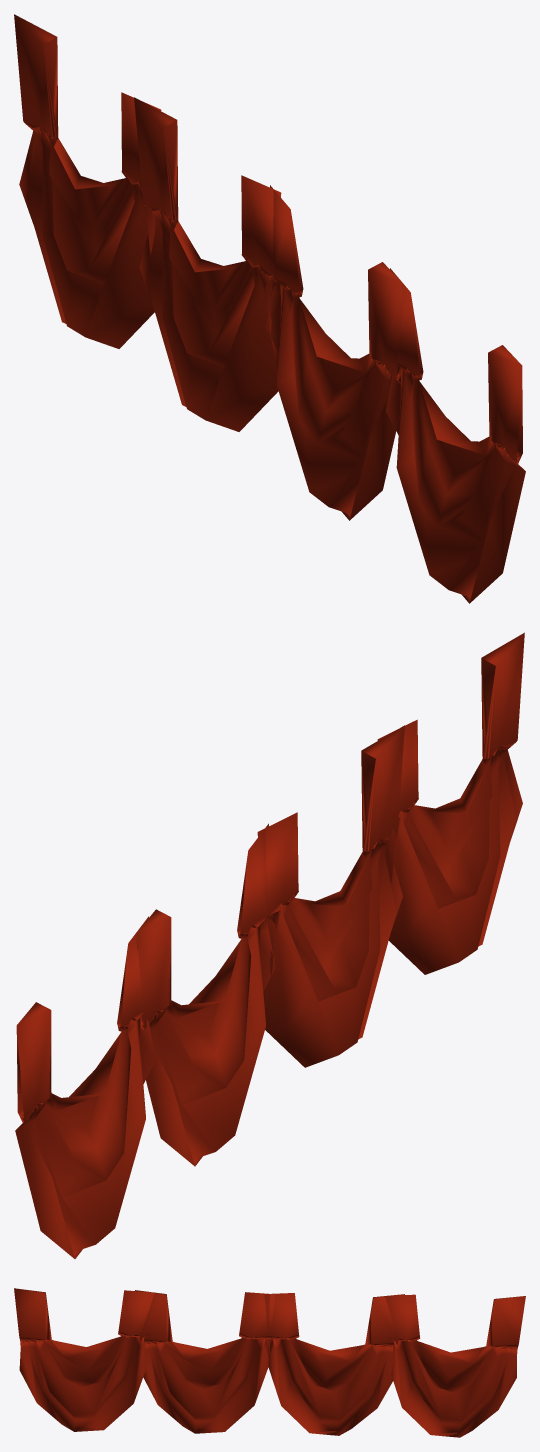
Rendered from Curtain2.fbx.
3 renders of one model, top to bottom at view 1: azimuth 30°, elevation 25°; view 2: azimuth 150°, elevation 25°; view 3: azimuth 270°, elevation 25°, orthographic. The views are drawn at different scales.
Parts seen in each view (by area): view 1: Cloth_Shape.002; view 2: Cloth_Shape.002; view 3: Cloth_Shape.002.
Part boxes in pixels (left/top/right/bottom): Cloth_Shape.002: left=14, top=14, right=525, bottom=603; Cloth_Shape.002: left=15, top=632, right=524, bottom=1258; Cloth_Shape.002: left=14, top=1288, right=525, bottom=1437.
Size of the model in its own units: 0.2849 by 4.66 by 1.48.
